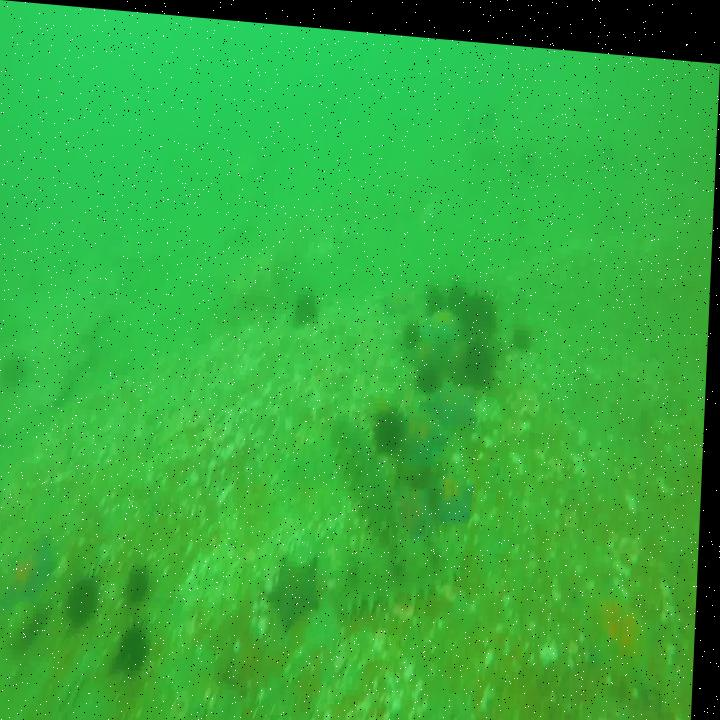echinus: (122, 621, 157, 669), (467, 336, 503, 382), (70, 575, 107, 618), (470, 285, 506, 321), (377, 401, 409, 440), (418, 349, 448, 389), (4, 345, 29, 392), (446, 270, 474, 311), (129, 556, 159, 592), (511, 313, 540, 341), (295, 287, 318, 318), (424, 274, 447, 305), (403, 309, 425, 338)
holothurian: (339, 523, 468, 615), (330, 407, 407, 540)
starfish: (584, 557, 670, 677), (1, 530, 67, 618), (270, 543, 326, 632), (398, 410, 456, 476), (421, 303, 476, 364), (436, 465, 485, 519), (434, 375, 486, 424)
